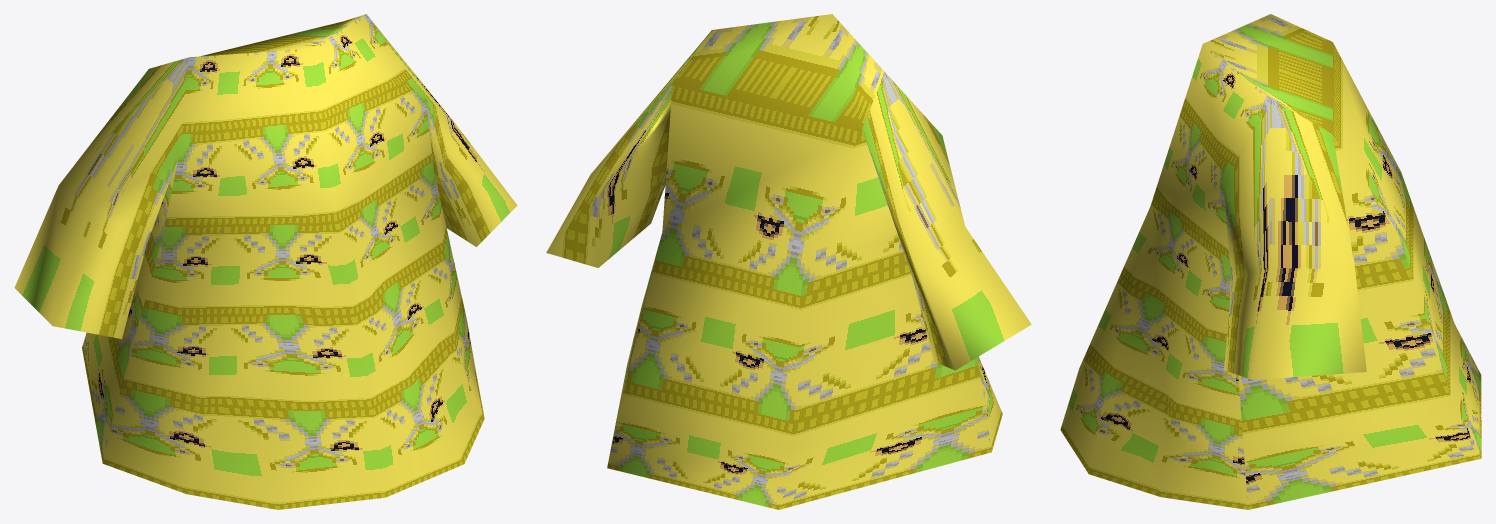
File: 2648dress000_r.gltf
3 views of the same model, side by side, from view 1: azimuth 30°, elevation 25°; view 2: azimuth 150°, elevation 25°; view 3: azimuth 270°, elevation 25° (orthographic). The views are drawn at different scales.
Visible parts, largest first — view 1: 2648dress000_r; view 2: 2648dress000_r; view 3: 2648dress000_r.
Boxes of the visible parts, bbox=[...] form: 2648dress000_r: bbox=[14, 14, 517, 509]; 2648dress000_r: bbox=[546, 14, 1031, 509]; 2648dress000_r: bbox=[1060, 14, 1481, 509].
Size of the model in its own units: 1.09 by 0.8945 by 0.8848.
1 material, 1 textured.
